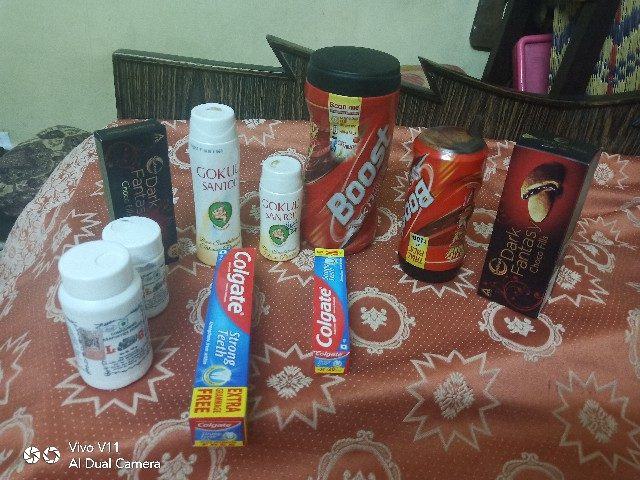boost big: (305, 36, 401, 256)
boost small: (390, 114, 484, 286)
colgatetoothpaste big: (181, 246, 257, 451)
colgatetoothpaste small: (310, 240, 358, 376)
darkfantasy big: (478, 133, 606, 321)
darkfantasy small: (91, 108, 179, 264)
gokulsantol big: (188, 44, 245, 259)
gokulsantol small: (255, 151, 310, 267)
lgasafoetidapowder large: (56, 236, 158, 385)
lgasafoetidapowder small: (99, 205, 172, 315)
